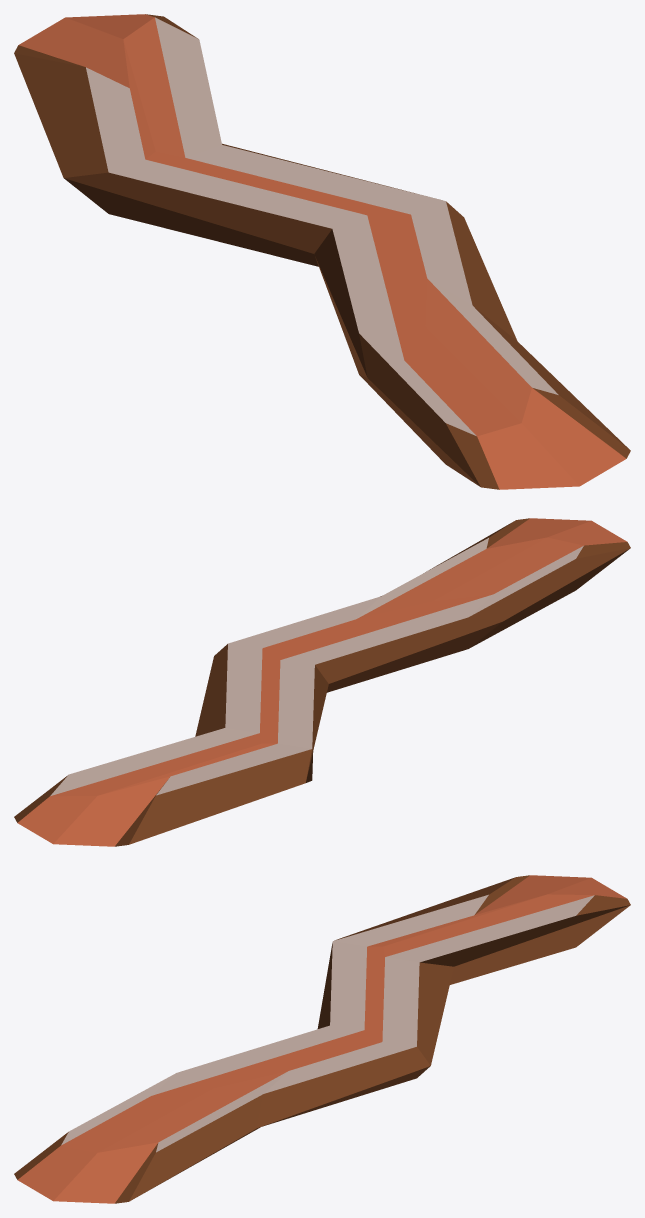
Rendered from Cooked Bacon.fbx.
The picture shows the model from 3 angles, top to bottom: view 1: azimuth 30°, elevation 25°; view 2: azimuth 150°, elevation 25°; view 3: azimuth 330°, elevation 25°; orthographic projection. The views are drawn at different scales.
Parts seen in each view (by area): view 1: Cooked Bacon; view 2: Cooked Bacon; view 3: Cooked Bacon.
Part boxes in pixels (left/top/right/bottom): Cooked Bacon: left=14, top=14, right=630, bottom=489; Cooked Bacon: left=14, top=518, right=630, bottom=846; Cooked Bacon: left=14, top=875, right=630, bottom=1203.
Bounding box in the file's own units: 4.68 × 0.7021 × 18.7.
